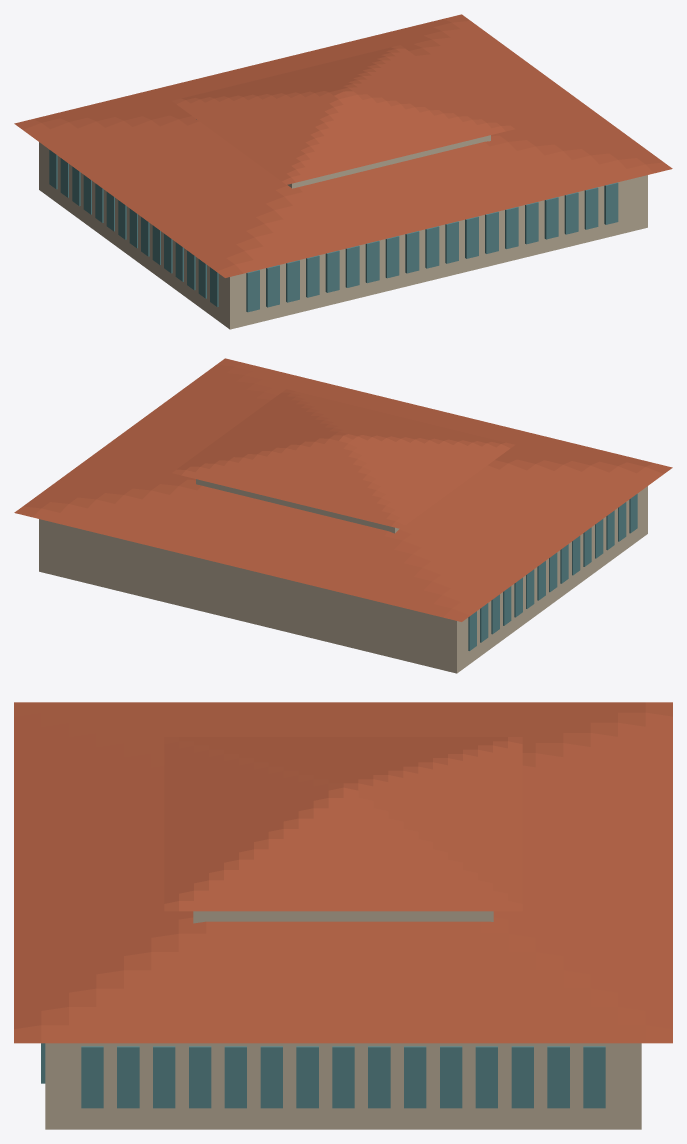
The model's file is taipei-main-station.glb.
The picture shows the model from 3 angles, top to bottom: view 1: azimuth 30°, elevation 25°; view 2: azimuth 150°, elevation 25°; view 3: azimuth 270°, elevation 25°; orthographic projection. The views are drawn at different scales.
Parts seen in each view (by area): view 1: Station roof lower, Station roof upper, Station concourse, Upper roof podium, Station facade glass.008, Station facade glass.004, Station facade glass.006, Station facade glass.015, Station facade glass.016, Station facade glass.017, Station facade glass.009, Station facade glass.018 (+11 smaller); view 2: Station roof lower, Station concourse, Station roof upper, Upper roof podium; view 3: Station roof lower, Station roof upper, Station concourse, Upper roof podium, Side glazing.001, Side glazing.003, Side glazing.013, Side glazing.015, Side glazing.017, Side glazing.027, Side glazing.029, Side glazing.005 (+7 smaller).
Boxes of the visible parts, box(x1,y1,x2,y2) form: Station roof lower: box(14, 14, 672, 277); Station roof upper: box(172, 45, 514, 184); Station concourse: box(39, 142, 647, 329); Upper roof podium: box(196, 119, 490, 188); Station facade glass.008: box(405, 231, 419, 273); Station facade glass.004: box(325, 250, 339, 292); Station facade glass.006: box(365, 240, 379, 283); Station facade glass.015: box(544, 197, 558, 239); Station facade glass.016: box(564, 192, 578, 234); Station facade glass.017: box(584, 187, 598, 229); Station facade glass.009: box(425, 226, 439, 268); Station facade glass.018: box(604, 182, 618, 224); Station roof lower: box(14, 358, 672, 621); Station concourse: box(39, 486, 647, 673); Station roof upper: box(172, 389, 514, 528); Upper roof podium: box(196, 479, 399, 533); Station roof lower: box(14, 702, 672, 1043); Station roof upper: box(164, 737, 522, 911); Station concourse: box(45, 1043, 641, 1129); Upper roof podium: box(193, 911, 493, 923); Side glazing.001: box(81, 1046, 103, 1108); Side glazing.003: box(117, 1046, 139, 1108); Side glazing.013: box(296, 1046, 318, 1108); Side glazing.015: box(332, 1046, 354, 1108); Side glazing.017: box(368, 1046, 390, 1108); Side glazing.027: box(547, 1046, 569, 1108); Side glazing.029: box(583, 1046, 605, 1108); Side glazing.005: box(153, 1046, 175, 1108).
Size of the model in its own units: 180 by 45 by 147.
